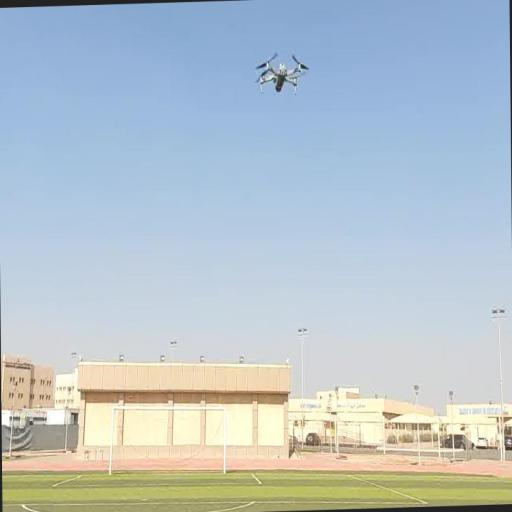drone: (252, 51, 311, 95)
